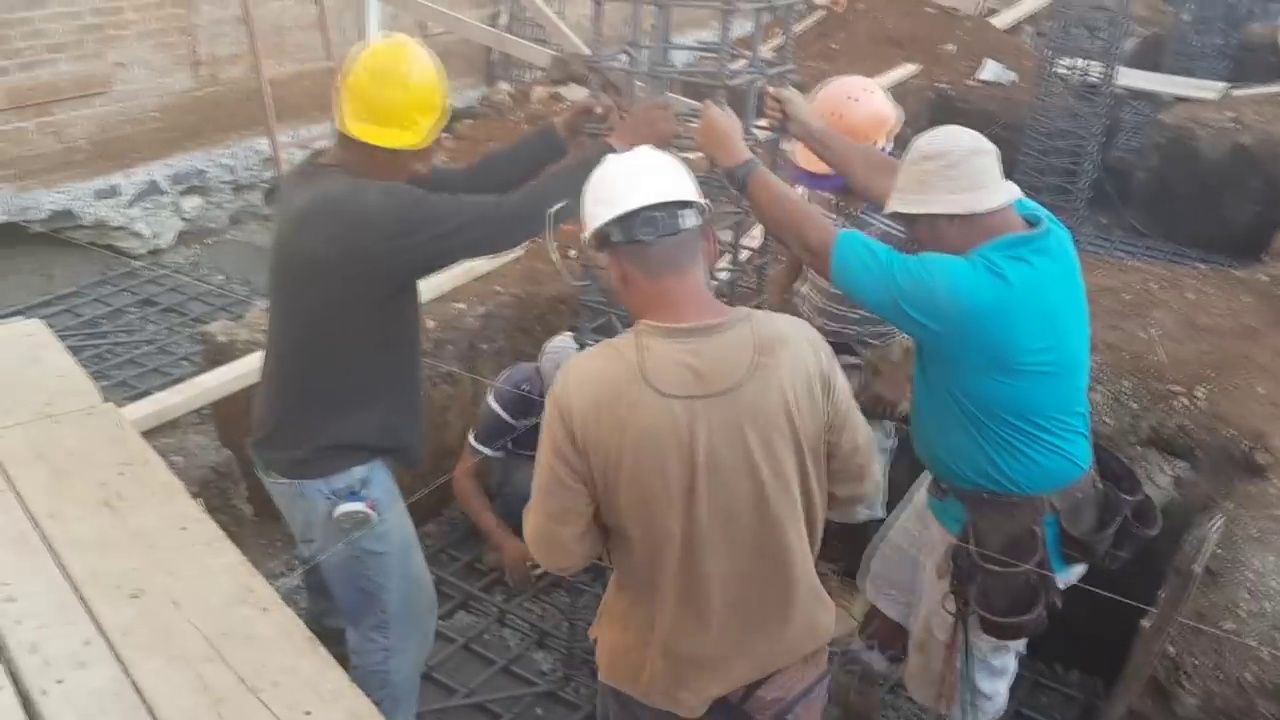helmet: (577, 149, 722, 255), (330, 38, 452, 156), (788, 75, 910, 159)
helmet-off: (888, 121, 1033, 262), (538, 332, 582, 381)
helmet-on: (579, 146, 729, 329), (304, 30, 452, 186), (789, 75, 908, 220)
person: (707, 84, 1096, 714), (520, 146, 886, 720), (246, 6, 526, 720), (777, 65, 915, 647), (457, 320, 580, 574)
